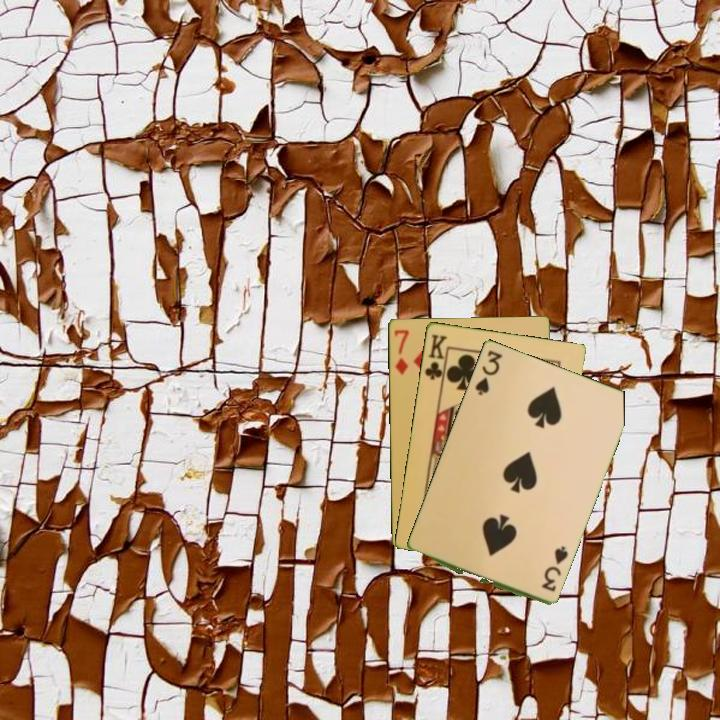3s: (471, 346, 505, 398), (538, 544, 571, 594)
7d: (390, 326, 411, 377)
Kc: (421, 331, 450, 386)
